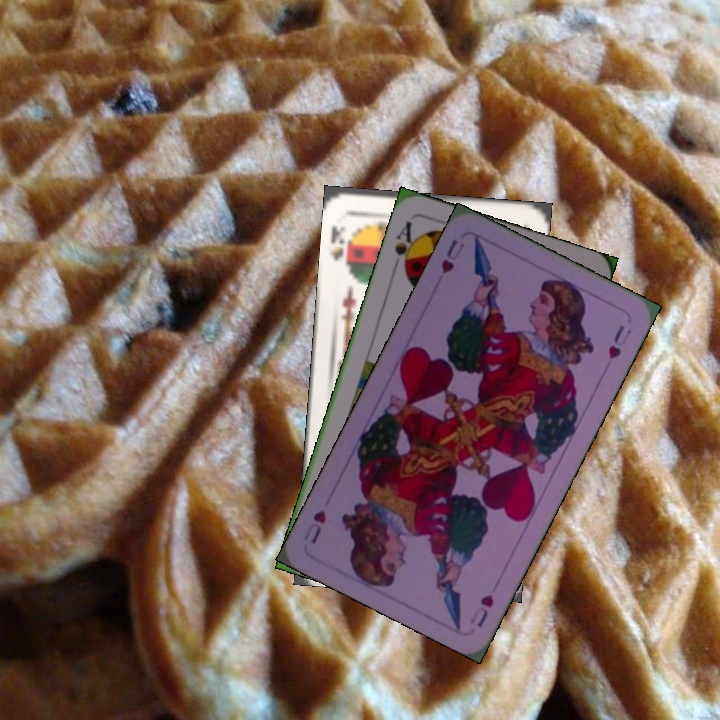HU: (437, 235, 467, 277), (466, 590, 497, 630)
SA: (388, 216, 420, 277)
SK: (326, 222, 348, 264)
